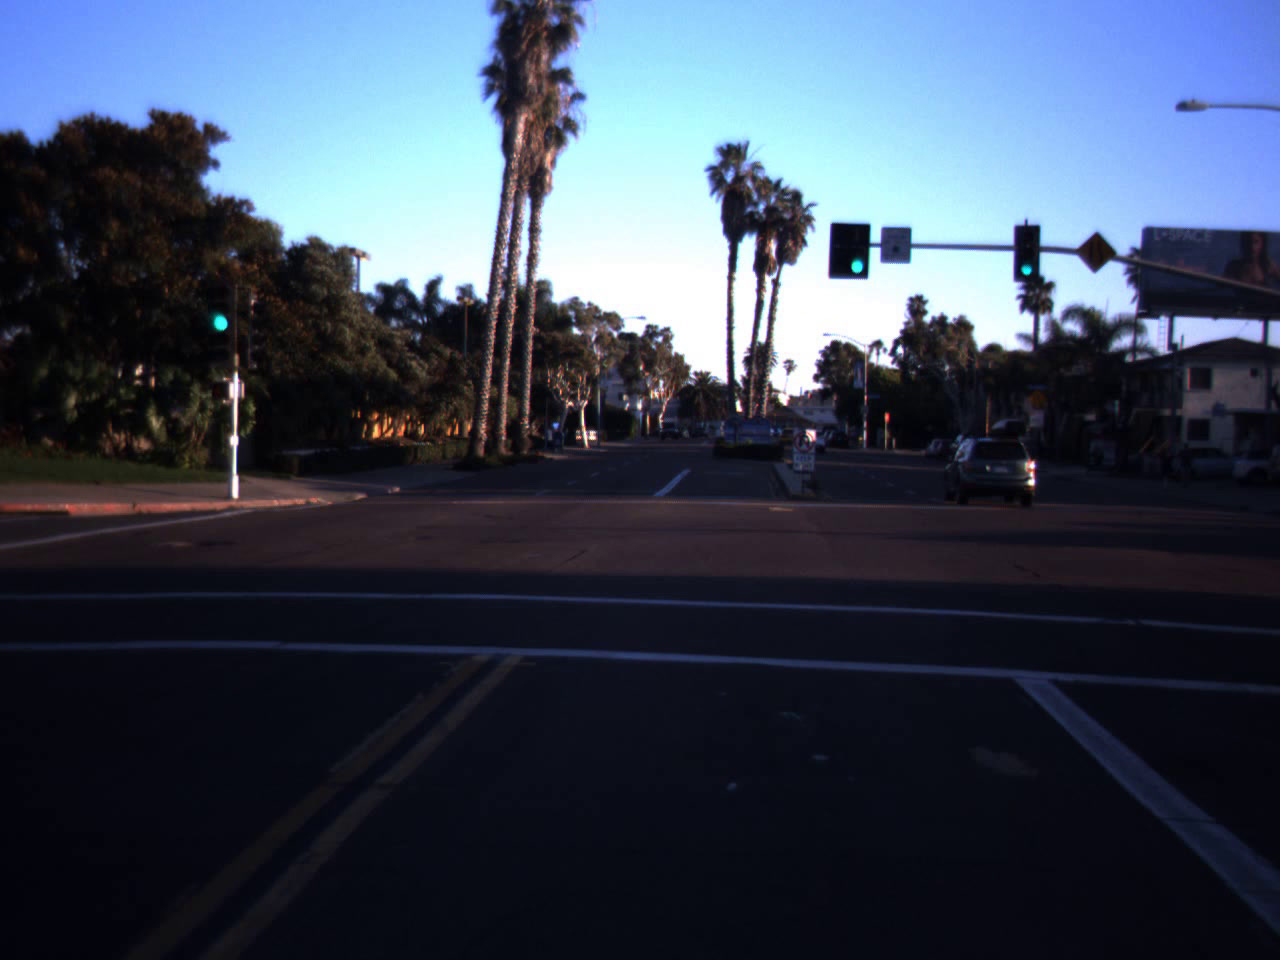go: (203, 267, 239, 337), (842, 222, 872, 277), (1015, 247, 1039, 277)
